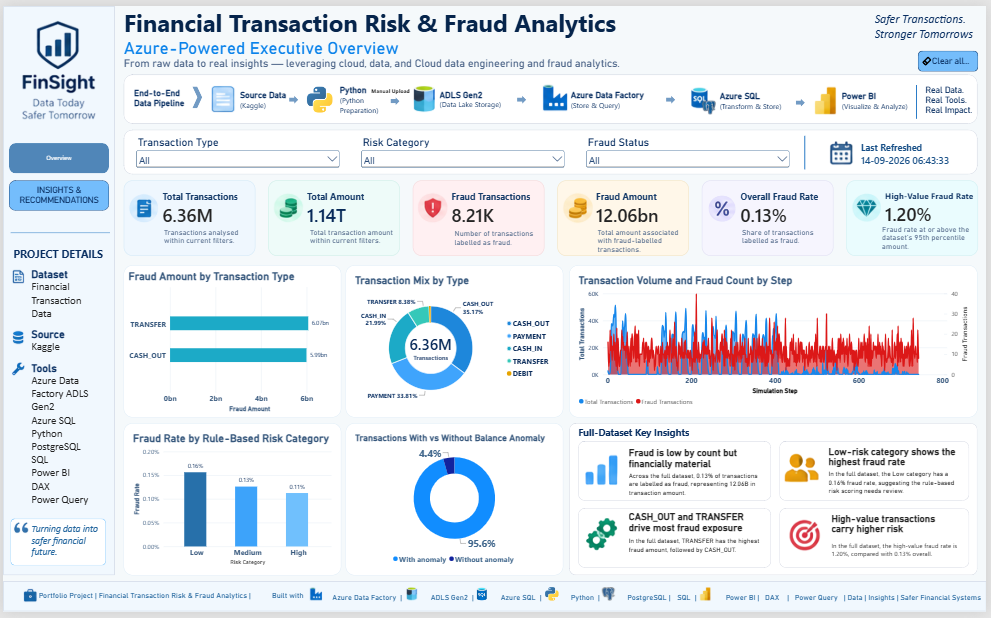

Layout of this report page (visuals, bound fields, positions):
{"tool":"powerbi","page":{"name":"Overview","canvas":[2200,1355],"ordinal":0},"visuals":[{"type":"shape","box":[270,153.3,1910,110],"z":0},{"type":"textbox","box":[1270.9,184.3,170.9,51.8],"z":0},{"type":"textbox","box":[975.9,185.3,151.8,52.7],"z":0},{"type":"cardVisual","fields":{"Data":["_measure 1.Total Amount"]},"box":[592.6,389.8,294.5,169.1],"z":0,"group":"g2"},{"type":"cardVisual","fields":{"Data":["_measure 1.Fraud Transactions"]},"box":[915.7,389.8,294.5,169.1],"z":0,"group":"g3"},{"type":"cardVisual","fields":{"Data":["_measure 1.Fraud Amount"]},"box":[1238.8,389.8,294.5,169.1],"z":0,"group":"g4"},{"type":"cardVisual","fields":{"Data":["_measure 1.Overall Fraud Rate"]},"box":[1561.9,389.8,294.5,169.1],"z":0,"group":"g5"},{"type":"cardVisual","fields":{"Data":["_measure 1.Total Transactions"]},"box":[270,390.3,294.5,169.1],"z":0,"group":"g1"},{"type":"cardVisual","fields":{"Data":["_measure 1.High Value Fraud Rate"]},"box":[1885,390.3,294.5,169.1],"z":0,"group":"g6"},{"type":"shape","box":[0,0,250,1273.3],"z":1000},{"type":"textbox","box":[1965,489.8,210,68.3],"z":1000,"group":"g6"},{"type":"textbox","box":[1650.9,495.5,181.1,65.6],"z":1000,"group":"g5"},{"type":"textbox","box":[684.9,496.7,195,48.3],"z":1000,"group":"g2"},{"type":"textbox","box":[1327.4,496.7,200,60],"z":1000,"group":"g4"},{"type":"textbox","box":[358.3,497,181.4,41.4],"z":1000,"group":"g1"},{"type":"textbox","box":[1007.8,500.1,200,51.7],"z":1000,"group":"g3"},{"type":"textbox","box":[1604.5,189.1,151.4,48.6],"z":2000},{"type":"shape","box":[0,1287.5,2200,67.5],"z":3000},{"type":"shape","box":[270,276.7,1910,100],"z":5000},{"type":"textbox","box":[270,0,1132.5,147.5],"z":6000},{"type":"image","box":[456.2,175,72.2,63.3],"z":7000},{"type":"image","box":[1200.9,174.3,72,63],"z":8000},{"type":"image","box":[906.8,176.2,72,63],"z":9000},{"type":"image","box":[1529.2,179,72,63],"z":10000},{"type":"image","box":[1803.7,181.4,72.9,62.9],"z":11000},{"type":"textbox","box":[293.3,183.3,116.2,55],"z":12000},{"type":"shape","box":[423.8,181.2,22.5,48.7],"z":13000},{"type":"textbox","box":[528.4,181.7,107.8,56.7],"z":14000},{"type":"shape","box":[639.6,199,20.9,19.1],"z":15000},{"type":"textbox","box":[1875.7,189.1,158.2,52.7],"z":18000},{"type":"textbox","box":[2062.9,177.1,117.1,75.7],"z":19000},{"type":"shape","box":[2028,176,34,76],"z":20000},{"type":"slicer","fields":{"Values":["transactions.type"]},"box":[292.9,290,464.3,72.9],"z":21000},{"type":"slicer","fields":{"Values":["transactions.risk_category"]},"box":[796.4,290,464.3,72.9],"z":22000},{"type":"slicer","fields":{"Values":["transactions.isfraud"]},"box":[1300,290,464.3,72.9],"z":23000},{"type":"cardVisual","fields":{"Data":["_measure 1.Last Refresh Table"]},"box":[1903.3,300,256.7,63.3],"z":24000},{"type":"shape","box":[1776.7,290,34,76],"z":25000},{"type":"image","box":[1841.7,296.7,66.7,63.3],"z":26000},{"type":"group","id":"g1","title":"Group 2","box":[270,390.3,294.5,169.1],"z":27000},{"type":"group","id":"g2","title":"Group 2","box":[592.6,389.8,294.5,169.1],"z":28000},{"type":"group","id":"g3","title":"Group 2","box":[915.7,389.8,294.5,169.1],"z":29000},{"type":"group","id":"g4","title":"Group 2","box":[1238.8,389.8,294.5,169.1],"z":30000},{"type":"group","id":"g5","title":"Group 2","box":[1561.9,389.8,294.5,171.3],"z":31000},{"type":"group","id":"g6","title":"Group 2","box":[1885,390.3,294.5,169.1],"z":32000},{"type":"clusteredBarChart","title":"Fraud Amount by Transaction Type","fields":{"Category":["transactions.type"],"Y":["_measure 1.Fraud Amount"]},"box":[270,580,486.7,340],"z":33000},{"type":"donutChart","title":"Transaction Mix by Type","fields":{"Category":["transactions.type"],"Y":["_measure 1.Total Transactions"]},"box":[766.7,580,486.6,340],"z":34000},{"type":"lineChart","title":"Transaction Volume and Fraud Count by Step","fields":{"Category":["transactions.step"],"Y":["_measure.Total Transactions"],"Y2":["_measure.Fraud Transactions"]},"box":[1266.7,580,913.3,340],"z":35000},{"type":"columnChart","title":"Fraud Rate by Rule-Based Risk Category","fields":{"Category":["transactions.risk_category"],"Y":["_measure 1.Overall Fraud Rate"]},"box":[270,933.3,486.6,340],"z":36000},{"type":"donutChart","title":"Transactions With vs Without Balance Anomaly","fields":{"Category":["transactions.Anomaly Label"],"Y":["_measure 1.Total Transactions"]},"box":[766.7,933.3,486.6,340],"z":37000},{"type":"shape","box":[1266.7,933.3,913.3,340],"z":38000},{"type":"shape","box":[1287,974,431.7,133.3],"z":39000},{"type":"shape","box":[1735.3,974,425,133.3],"z":40000},{"type":"shape","box":[1287.7,1121.7,431.7,133.3],"z":41000},{"type":"shape","box":[1736.1,1121.7,425,133.3],"z":42000},{"type":"textbox","box":[1848.8,984.9,305.7,50],"z":43000,"group":"g10"},{"type":"textbox","box":[1401.6,985,305.7,50],"z":43000,"group":"g8"},{"type":"group","id":"g7","title":"Group 3","box":[1298.6,1131.4,407.1,112.9],"z":43000},{"type":"textbox","box":[1400,1131.4,305.7,50],"z":43000,"group":"g7"},{"type":"textbox","box":[1854.7,1131.7,305.7,50],"z":43000,"group":"g9"},{"type":"group","id":"g8","title":"Group 3","box":[1300.2,985,407.1,113.3],"z":44000},{"type":"textbox","box":[1401.5,1038.3,303.3,60],"z":44000,"group":"g8"},{"type":"textbox","box":[1848.4,1039.2,304.3,58.6],"z":44000,"group":"g10"},{"type":"textbox","box":[1398.6,1188.1,306.2,56.2],"z":44000,"group":"g7"},{"type":"textbox","box":[1854.7,1196,304.3,48.6],"z":44000,"group":"g9"},{"type":"image","box":[1747.4,997.8,80,75],"z":45000,"group":"g10"},{"type":"image","box":[1300.2,997.9,80,75],"z":45000,"group":"g8"},{"type":"group","id":"g9","title":"Group 3","box":[1753.3,1131.7,406.7,113.3],"z":45000},{"type":"image","box":[1298.6,1144.3,80,75],"z":45000,"group":"g7"},{"type":"image","box":[1753.3,1144.6,80,75],"z":45000,"group":"g9"},{"type":"group","id":"g10","title":"Group 3","box":[1747.4,984.9,407.1,112.9],"z":46000},{"type":"image","box":[40,1304.3,42,30],"z":47000},{"type":"textbox","box":[81.7,1304.4,600,40],"z":48000},{"type":"image","box":[1551.7,1298.5,42,30],"z":49000,"group":"g16"},{"type":"group","id":"g11","title":"Group 4","box":[679.7,1299.4,220,40],"z":49000},{"type":"image","box":[679.7,1299.4,42,30],"z":49000,"group":"g11"},{"type":"image","box":[893.7,1299.4,42,30],"z":49000,"group":"g12"},{"type":"image","box":[1049.7,1299.4,42,30],"z":49000,"group":"g13"},{"type":"image","box":[1207.7,1299.4,42,30],"z":49000,"group":"g14"},{"type":"image","box":[1333.7,1299.4,42,30],"z":49000,"group":"g15"},{"type":"group","id":"g12","title":"Group 4","box":[893.7,1299.4,168,42],"z":50000},{"type":"textbox","box":[1617.7,1310.5,580,36],"z":50000,"group":"g16"},{"type":"textbox","box":[737.7,1311.4,162,28],"z":50000,"group":"g11"},{"type":"textbox","box":[957.7,1311.4,104,30],"z":50000,"group":"g12"},{"type":"textbox","box":[1111.7,1311.4,96,26],"z":50000,"group":"g13"},{"type":"textbox","box":[1269.7,1311.4,78,24],"z":50000,"group":"g14"},{"type":"textbox","box":[1395.7,1311.4,166,30],"z":50000,"group":"g15"},{"type":"group","id":"g13","title":"Group 4","box":[1049.7,1299.4,158,38],"z":51000},{"type":"group","id":"g14","title":"Group 4","box":[1207.7,1299.4,140,36],"z":52000},{"type":"group","id":"g15","title":"Group 4","box":[1333.7,1299.4,228,42],"z":53000},{"type":"group","id":"g16","title":"Group 4","box":[1551.7,1298.5,646,48],"z":54000},{"type":"image","box":[13.3,30,223.3,233.3],"z":55000},{"type":"pageNavigator","box":[14,308,224,68],"z":56000},{"type":"pageNavigator","box":[14,390,224,68],"z":57000},{"type":"shape","box":[15,492.5,222.5,27.5],"z":58000},{"type":"textbox","box":[64,588,176,628],"z":59000},{"type":"textbox","box":[22,538,208,50],"z":60000},{"type":"image","box":[13.9,588.3,41.7,30],"z":61000},{"type":"shape","box":[16.2,1145,213.7,105],"z":62000},{"type":"textbox","box":[63.8,1156.2,163.8,87.5],"z":63000},{"type":"image","box":[22.5,1152.5,35,28.7],"z":64000},{"type":"textbox","box":[1948.3,11.7,232,88],"z":65000},{"type":"image","box":[13.3,726.7,41.7,30],"z":66000},{"type":"image","box":[13.3,796.7,41.7,30],"z":67000},{"type":"actionButton","box":[2045,100,135,46.7],"z":68000},{"type":"image","box":[681.1,180.6,57.3,59.1],"z":68001},{"type":"textbox","box":[752,174.2,97.3,70],"z":68002},{"type":"shape","box":[865.7,202.9,20.9,19.1],"z":68003},{"type":"shape","box":[1482.9,198.6,20.9,19.1],"z":68004},{"type":"shape","box":[1150,198.6,20.9,19.1],"z":68005},{"type":"shape","box":[1772.9,207.1,20.9,19.1],"z":68006},{"type":"textbox","box":[820,178.3,94.3,18.6],"z":68007}]}

Visuals, with their boxes in screenshot pixels (x1, y1, x2, y2), scaled from the page's 2200x1355 canvas onto the 991x618 screenshot:
shape: x1=122, y1=70, x2=982, y2=120
textbox: x1=572, y1=84, x2=649, y2=108
textbox: x1=440, y1=85, x2=508, y2=109
cardVisual - _measure 1.Total Amount: x1=267, y1=178, x2=400, y2=255
cardVisual - _measure 1.Fraud Transactions: x1=412, y1=178, x2=545, y2=255
cardVisual - _measure 1.Fraud Amount: x1=558, y1=178, x2=691, y2=255
cardVisual - _measure 1.Overall Fraud Rate: x1=704, y1=178, x2=836, y2=255
cardVisual - _measure 1.Total Transactions: x1=122, y1=178, x2=254, y2=255
cardVisual - _measure 1.High Value Fraud Rate: x1=849, y1=178, x2=982, y2=255
shape: x1=0, y1=0, x2=113, y2=581
textbox: x1=885, y1=223, x2=980, y2=255
textbox: x1=744, y1=226, x2=825, y2=256
textbox: x1=309, y1=227, x2=396, y2=249
textbox: x1=598, y1=227, x2=688, y2=254
textbox: x1=161, y1=227, x2=243, y2=246
textbox: x1=454, y1=228, x2=544, y2=252
textbox: x1=723, y1=86, x2=791, y2=108
shape: x1=0, y1=587, x2=990, y2=617
shape: x1=122, y1=126, x2=982, y2=172
textbox: x1=122, y1=0, x2=632, y2=67
image: x1=205, y1=80, x2=238, y2=109
image: x1=541, y1=79, x2=573, y2=108
image: x1=408, y1=80, x2=441, y2=109
image: x1=689, y1=82, x2=721, y2=110
image: x1=812, y1=83, x2=845, y2=111
textbox: x1=132, y1=84, x2=184, y2=109
shape: x1=191, y1=83, x2=201, y2=105
textbox: x1=238, y1=83, x2=287, y2=109
shape: x1=288, y1=91, x2=298, y2=99
textbox: x1=845, y1=86, x2=916, y2=110
textbox: x1=929, y1=81, x2=982, y2=115
shape: x1=914, y1=80, x2=929, y2=115
slicer - transactions.type: x1=132, y1=132, x2=341, y2=166
slicer - transactions.risk_category: x1=359, y1=132, x2=568, y2=166
slicer - transactions.isfraud: x1=586, y1=132, x2=795, y2=166
cardVisual - _measure 1.Last Refresh Table: x1=857, y1=137, x2=973, y2=166
shape: x1=800, y1=132, x2=816, y2=167
image: x1=830, y1=135, x2=860, y2=164
"Group 2" group: x1=122, y1=178, x2=254, y2=255
"Group 2" group: x1=267, y1=178, x2=400, y2=255
"Group 2" group: x1=412, y1=178, x2=545, y2=255
"Group 2" group: x1=558, y1=178, x2=691, y2=255
"Group 2" group: x1=704, y1=178, x2=836, y2=256
"Group 2" group: x1=849, y1=178, x2=982, y2=255
"Fraud Amount by Transaction Type" clusteredBarChart: x1=122, y1=265, x2=341, y2=420
"Transaction Mix by Type" donutChart: x1=345, y1=265, x2=565, y2=420
"Transaction Volume and Fraud Count by Step" lineChart: x1=571, y1=265, x2=982, y2=420
"Fraud Rate by Rule-Based Risk Category" columnChart: x1=122, y1=426, x2=341, y2=581
"Transactions With vs Without Balance Anomaly" donutChart: x1=345, y1=426, x2=565, y2=581
shape: x1=571, y1=426, x2=982, y2=581
shape: x1=580, y1=444, x2=774, y2=505
shape: x1=782, y1=444, x2=973, y2=505
shape: x1=580, y1=512, x2=775, y2=572
shape: x1=782, y1=512, x2=973, y2=572
textbox: x1=833, y1=449, x2=971, y2=472
textbox: x1=631, y1=449, x2=769, y2=472
"Group 3" group: x1=585, y1=516, x2=768, y2=568
textbox: x1=631, y1=516, x2=768, y2=539
textbox: x1=835, y1=516, x2=973, y2=539
"Group 3" group: x1=586, y1=449, x2=769, y2=501
textbox: x1=631, y1=474, x2=768, y2=501
textbox: x1=833, y1=474, x2=970, y2=501
textbox: x1=630, y1=542, x2=768, y2=568
textbox: x1=835, y1=545, x2=973, y2=568
image: x1=787, y1=455, x2=823, y2=489
image: x1=586, y1=455, x2=622, y2=489
"Group 3" group: x1=790, y1=516, x2=973, y2=568
image: x1=585, y1=522, x2=621, y2=556
image: x1=790, y1=522, x2=826, y2=556
"Group 3" group: x1=787, y1=449, x2=971, y2=501
image: x1=18, y1=595, x2=37, y2=609
textbox: x1=37, y1=595, x2=307, y2=613
image: x1=699, y1=592, x2=718, y2=606
"Group 4" group: x1=306, y1=593, x2=405, y2=611
image: x1=306, y1=593, x2=325, y2=606
image: x1=403, y1=593, x2=421, y2=606
image: x1=473, y1=593, x2=492, y2=606
image: x1=544, y1=593, x2=563, y2=606
image: x1=601, y1=593, x2=620, y2=606
"Group 4" group: x1=403, y1=593, x2=478, y2=612
textbox: x1=729, y1=598, x2=990, y2=614
textbox: x1=332, y1=598, x2=405, y2=611
textbox: x1=431, y1=598, x2=478, y2=612
textbox: x1=501, y1=598, x2=544, y2=610
textbox: x1=572, y1=598, x2=607, y2=609
textbox: x1=629, y1=598, x2=703, y2=612
"Group 4" group: x1=473, y1=593, x2=544, y2=610
"Group 4" group: x1=544, y1=593, x2=607, y2=609
"Group 4" group: x1=601, y1=593, x2=703, y2=612
"Group 4" group: x1=699, y1=592, x2=990, y2=614
image: x1=6, y1=14, x2=107, y2=120
pageNavigator: x1=6, y1=140, x2=107, y2=171
pageNavigator: x1=6, y1=178, x2=107, y2=209
shape: x1=7, y1=225, x2=107, y2=237
textbox: x1=29, y1=268, x2=108, y2=555
textbox: x1=10, y1=245, x2=104, y2=268
image: x1=6, y1=268, x2=25, y2=282
shape: x1=7, y1=522, x2=104, y2=570
textbox: x1=29, y1=527, x2=103, y2=567
image: x1=10, y1=526, x2=26, y2=539
textbox: x1=878, y1=5, x2=982, y2=45
image: x1=6, y1=331, x2=25, y2=345
image: x1=6, y1=363, x2=25, y2=377
actionButton: x1=921, y1=46, x2=982, y2=67
image: x1=307, y1=82, x2=333, y2=109
textbox: x1=339, y1=79, x2=383, y2=111
shape: x1=390, y1=93, x2=399, y2=101
shape: x1=668, y1=91, x2=677, y2=99
shape: x1=518, y1=91, x2=527, y2=99
shape: x1=799, y1=94, x2=808, y2=103
textbox: x1=369, y1=81, x2=412, y2=90
